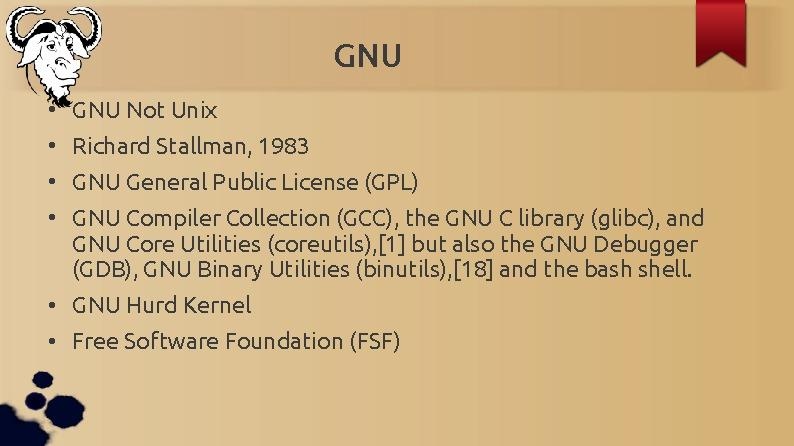paragraph: (44, 89, 728, 372)
title: (321, 34, 411, 77)
